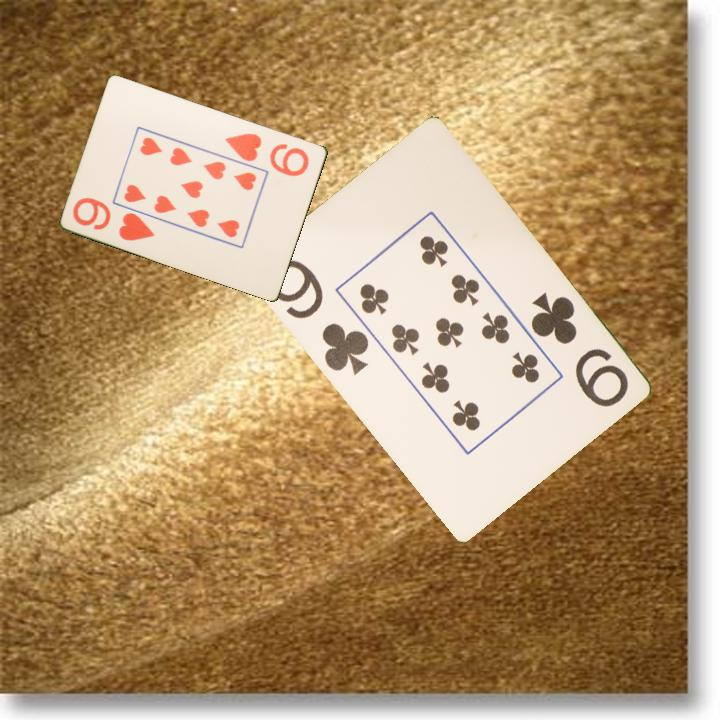9c: (263, 255, 372, 378), (526, 288, 631, 411)
9h: (222, 129, 312, 179), (69, 194, 158, 244)
